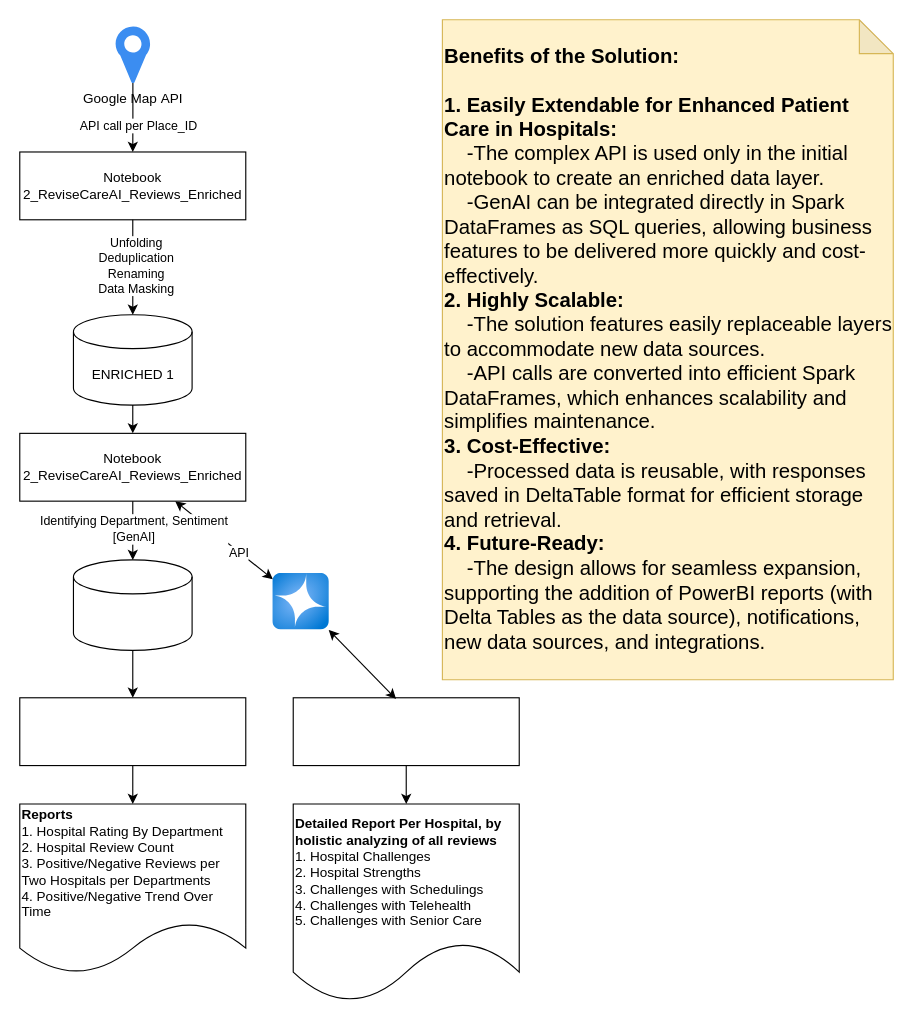
The diagram is 913 pixels wide and 1022 high, and some of its shapes have lost their labels. The centre of each missing label's shape, as x and y in pixels:
"Azure Open AI / Open AI" belongs at point 300,601.
"ENRICHED 2" belongs at point 132,604.
"Notebook 3_ReviseCareAI_Reports" belongs at point 132,731.
"Notebook 4_ReviseCareAI_AdvisorySystem" belongs at point 405,731.
